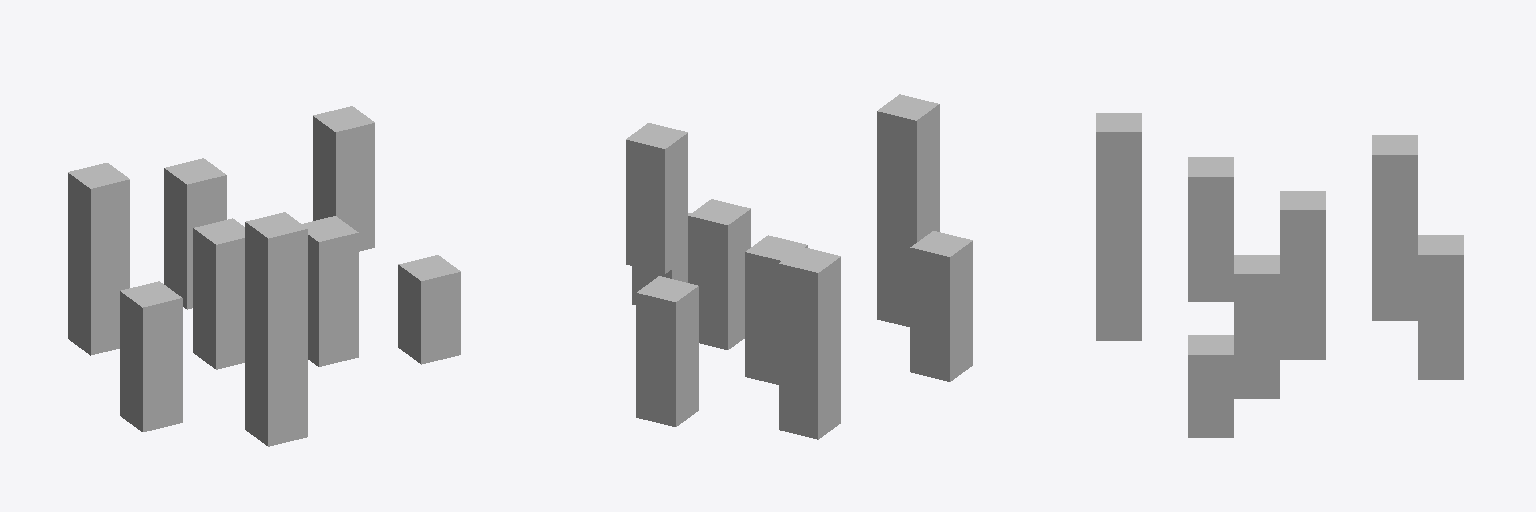
Rendered from GrassTips2.obj.
3 views of the same model, side by side, from view 1: azimuth 30°, elevation 25°; view 2: azimuth 150°, elevation 25°; view 3: azimuth 270°, elevation 25° (orthographic).
Visible parts, largest first — view 1: cube; view 2: cube; view 3: cube.
Boxes of the visible parts, box(x1,y1,x2,y2) form: cube: box(68, 106, 460, 446); cube: box(626, 94, 972, 439); cube: box(1096, 113, 1463, 437).
Bounding box in the file's own units: 0.5 × 0.3125 × 0.5.